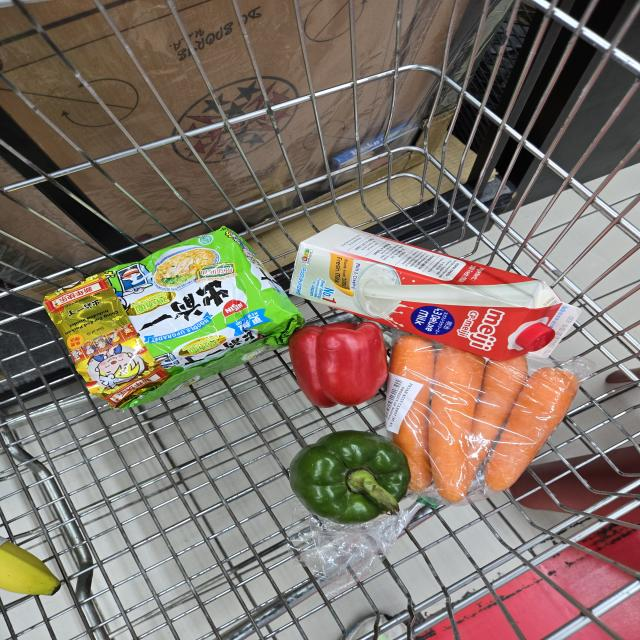bell-pepper: (290, 429, 412, 525), (284, 313, 391, 414)
carrot: (480, 369, 585, 494), (428, 338, 490, 504), (453, 352, 530, 480), (385, 334, 437, 500)
instant-noodle: (31, 222, 310, 415)
milk: (283, 218, 581, 366)
